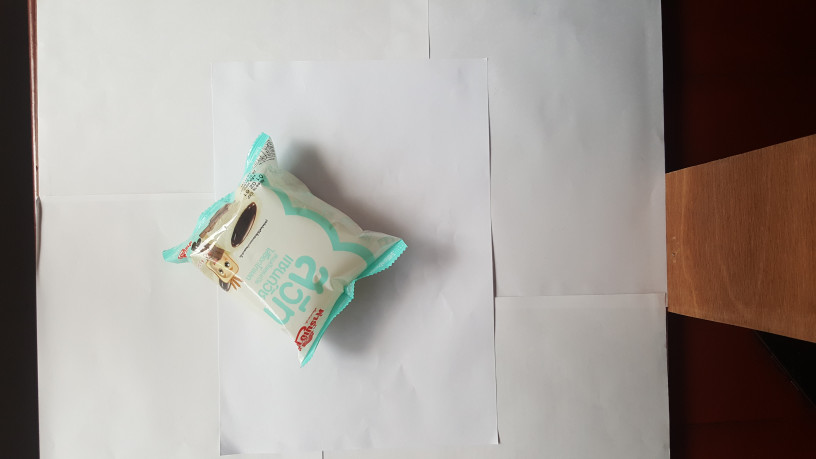farmhouse-sweetsandwich-chocolate: (161, 130, 411, 371)
